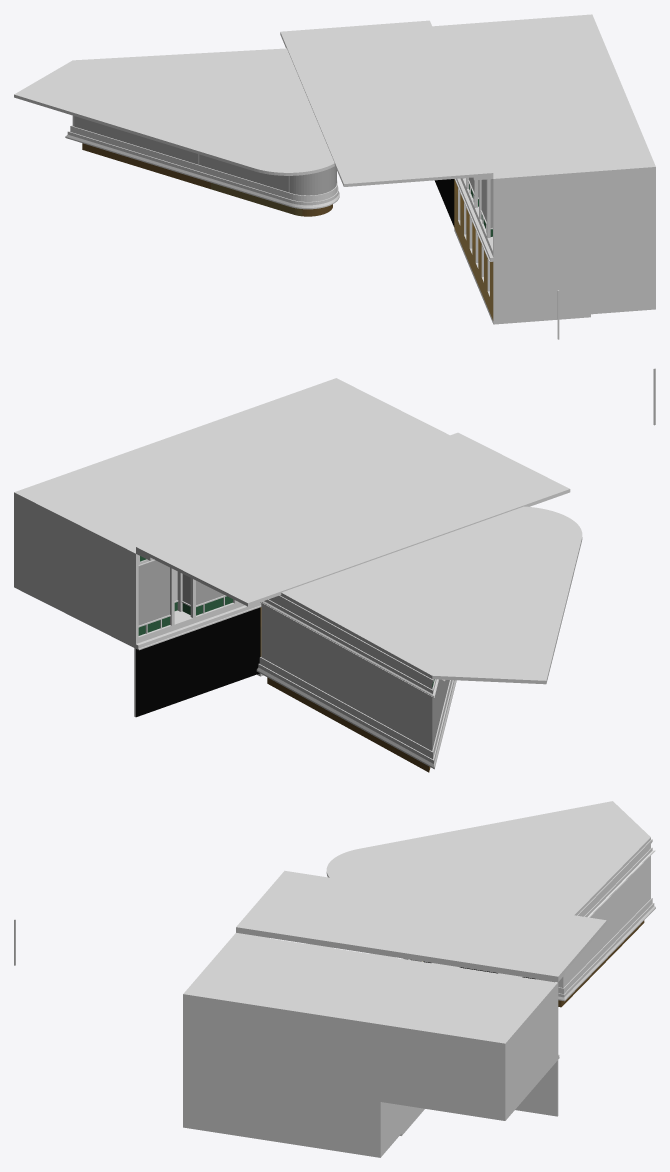
The model's file is NightHawks3D.fbx.
The picture shows the model from 3 angles, top to bottom: view 1: azimuth 30°, elevation 25°; view 2: azimuth 150°, elevation 25°; view 3: azimuth 270°, elevation 25°; orthographic projection. The views are drawn at different scales.
Parts seen in each view (by area): view 1: obj1147, obj1190, obj3, obj606, obj71, obj1059, obj1112, obj2, obj1142, obj1064, obj1151, obj1084 (+4 smaller); view 2: obj1147, obj1190, obj606, obj42, obj1098, obj611, obj71, obj497, obj1044, obj1047, obj1049, obj1191 (+7 smaller); view 3: obj31, obj1147, obj1190, obj606, obj42, obj1098, obj71, obj1185, obj1, obj610, obj1044.
Part boxes in pixels (x1,y1,x2,y2): obj1147: [14, 48, 334, 172]; obj1190: [280, 20, 493, 183]; obj3: [493, 167, 655, 321]; obj606: [434, 16, 651, 175]; obj71: [432, 14, 655, 178]; obj1059: [70, 126, 290, 199]; obj1112: [74, 116, 197, 164]; obj2: [454, 188, 493, 320]; obj1142: [199, 154, 288, 192]; obj1064: [82, 143, 210, 189]; obj1151: [14, 94, 253, 170]; obj1084: [67, 131, 289, 202]; obj1147: [281, 506, 582, 680]; obj1190: [136, 432, 569, 602]; obj606: [19, 380, 437, 550]; obj42: [14, 492, 138, 717]; obj1098: [261, 603, 432, 750]; obj611: [136, 607, 260, 717]; obj71: [14, 378, 449, 553]; obj497: [138, 560, 169, 625]; obj1044: [259, 657, 432, 759]; obj1047: [267, 677, 428, 772]; obj1049: [269, 597, 432, 689]; obj1191: [248, 489, 570, 606]; obj31: [183, 994, 505, 1157]; obj1147: [326, 801, 650, 915]; obj1190: [236, 870, 606, 976]; obj606: [187, 942, 553, 1041]; obj42: [505, 982, 559, 1120]; obj1098: [563, 856, 650, 987]; obj71: [183, 933, 557, 1043]; obj1185: [236, 927, 558, 982]; obj1: [380, 1102, 422, 1157]; obj610: [515, 1061, 557, 1116]; obj1044: [564, 898, 652, 993].
Bounding box in the file's own units: 109355 × 30400 × 124684.
